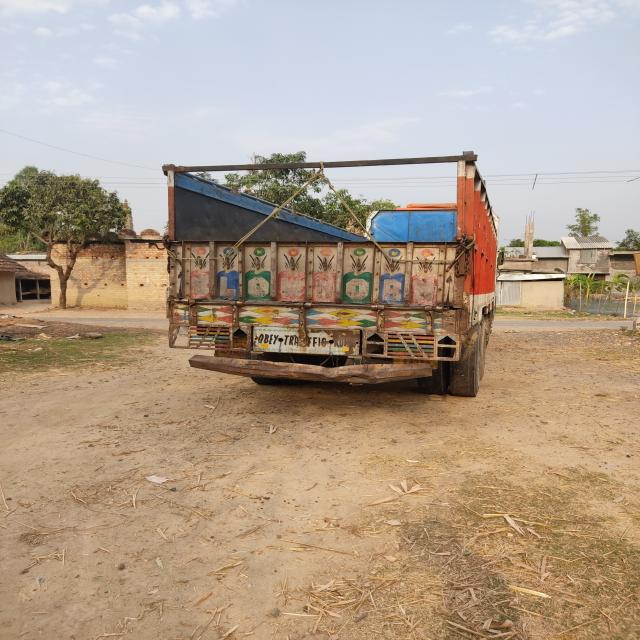truck: (160, 152, 504, 397)
